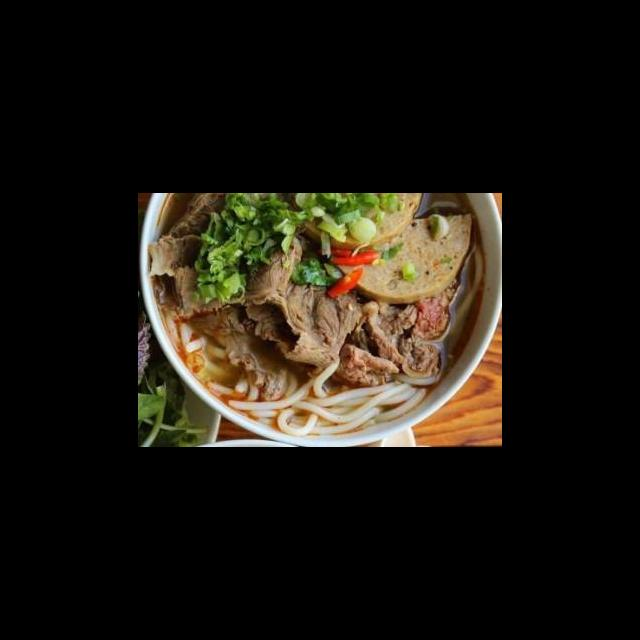bun: (223, 365, 442, 442), (161, 312, 250, 400)
bun bo: (151, 210, 488, 431)
thit bo: (170, 232, 305, 322), (244, 279, 366, 371), (190, 306, 290, 404), (146, 230, 224, 283), (325, 341, 403, 389), (407, 276, 460, 343)
